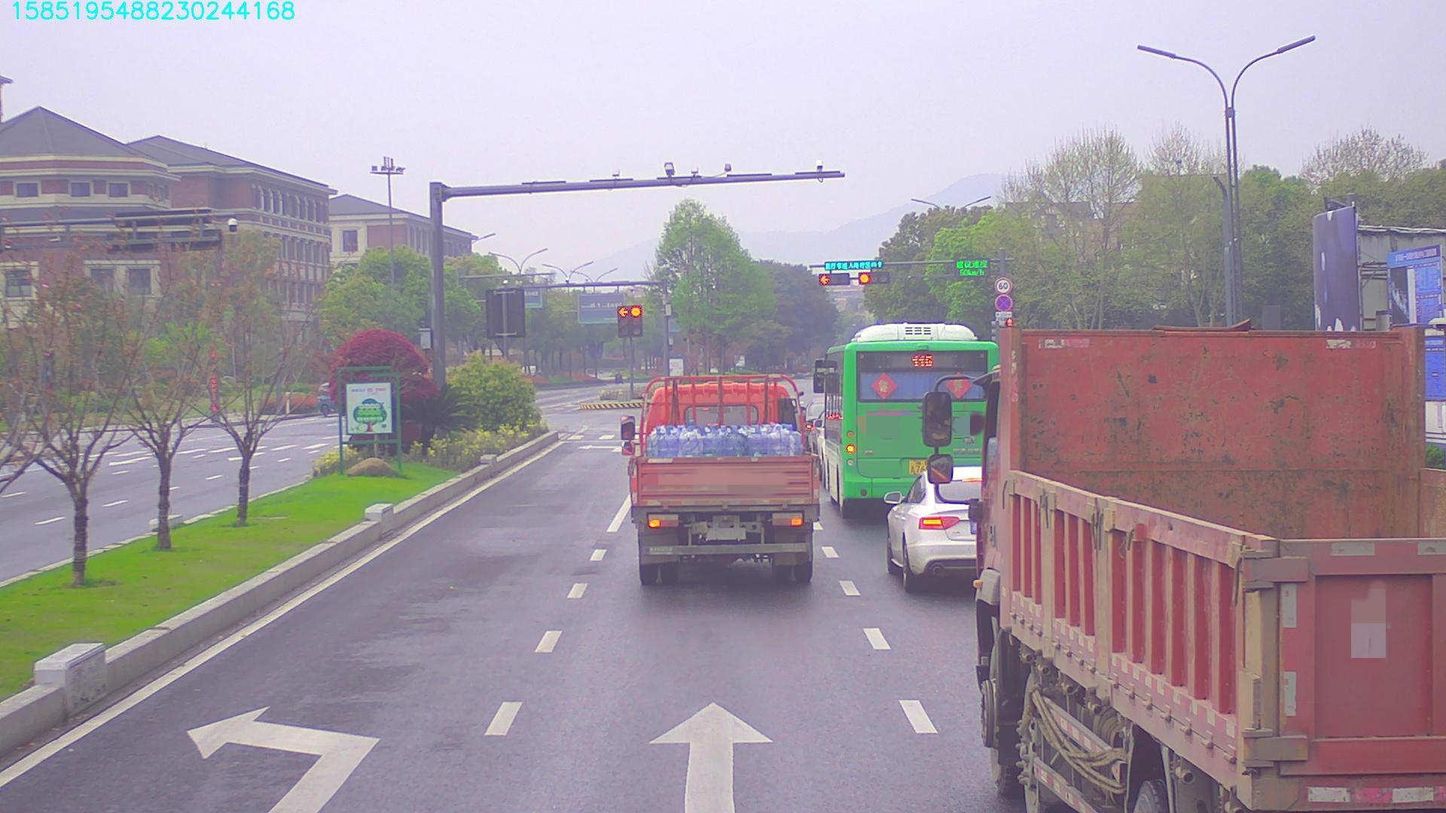red: (859, 271, 890, 286), (813, 275, 853, 284)
wait_on: (824, 255, 884, 273)
